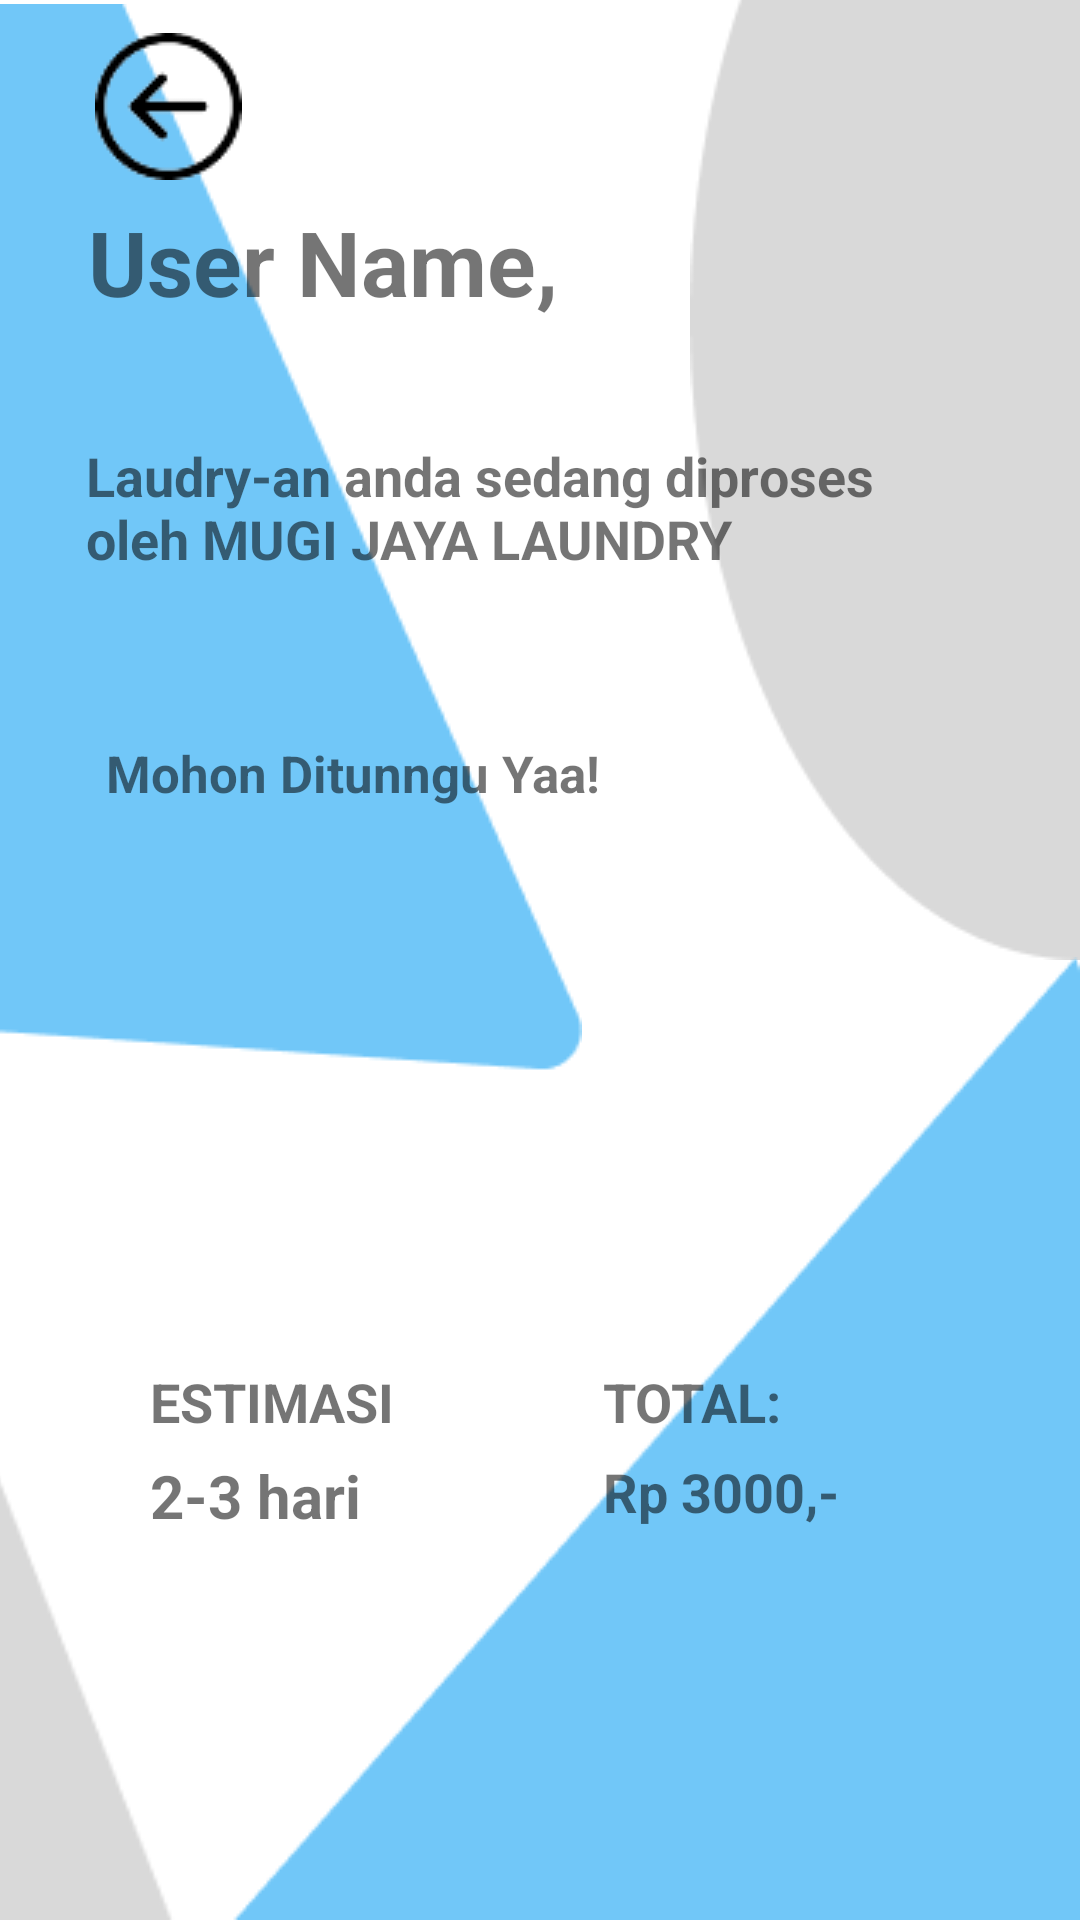

Icons on this 1080 × 1920 Android screen, each with the point to tap as [x,y]:
iconkembali: [168,106]
